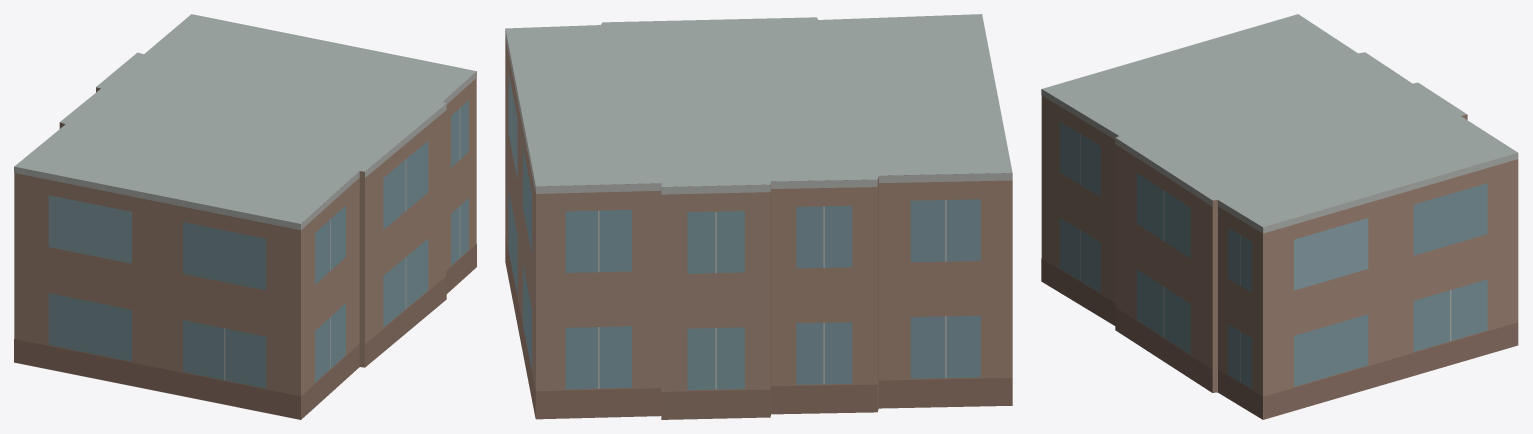
File: survey-upis-32625330.glb
3 renders of one model, left to right at view 1: azimuth 30°, elevation 25°; view 2: azimuth 150°, elevation 25°; view 3: azimuth 270°, elevation 25°, orthographic. The views are drawn at different scales.
Visible parts, largest first — view 1: survey-upis-32625330.tmp; view 2: survey-upis-32625330.tmp; view 3: survey-upis-32625330.tmp.
Part boxes in pixels (bbox=[...]): survey-upis-32625330.tmp: bbox=[14, 14, 476, 419]; survey-upis-32625330.tmp: bbox=[505, 14, 1012, 419]; survey-upis-32625330.tmp: bbox=[1041, 14, 1518, 419].
Bounding box in the file's own units: 17.83 × 7.5 × 16.84.
